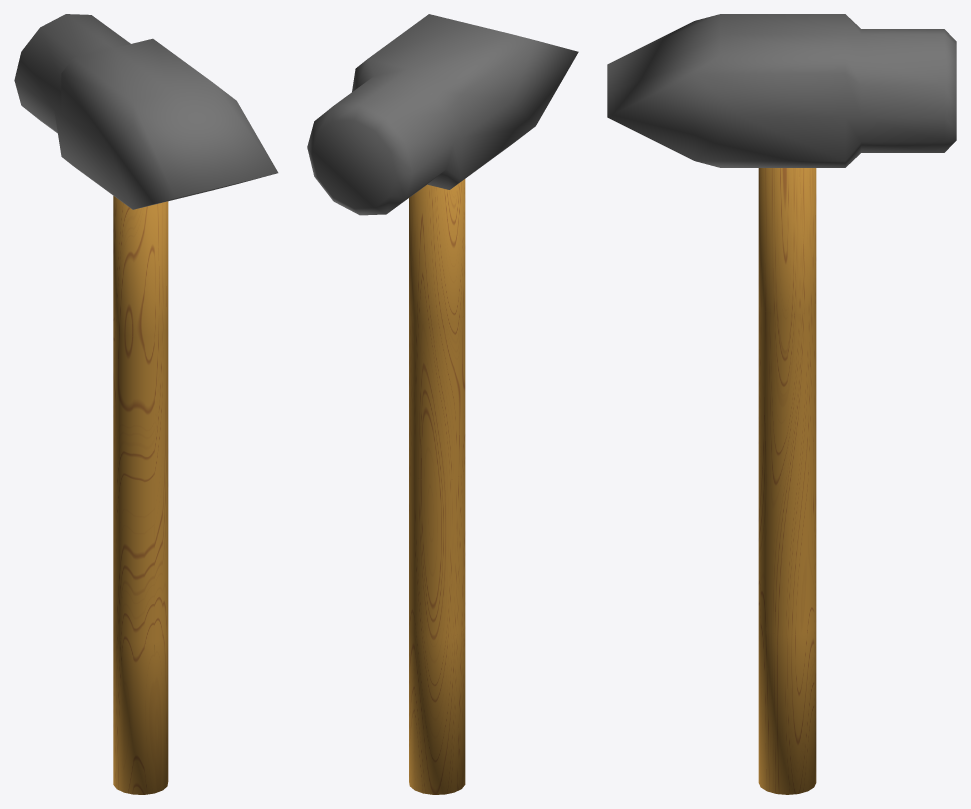
Rendered from peen_sledgehammer.glb.
The picture shows the model from 3 angles, left to right: view 1: azimuth 30°, elevation 25°; view 2: azimuth 150°, elevation 25°; view 3: azimuth 270°, elevation 25°; orthographic projection. The views are drawn at different scales.
Visible parts, largest first — view 1: handle, head; view 2: handle, head; view 3: head, handle.
Boxes of the visible parts, <box> form: handle: <box>113,196,168,794</box>; head: <box>14,14,278,209</box>; handle: <box>409,179,465,794</box>; head: <box>307,14,578,215</box>; head: <box>607,14,956,167</box>; handle: <box>758,168,816,794</box>.
Bounding box in the file's own units: 0.1167 × 0.7711 × 0.3264.
Materials: 2 (1 with a texture image).
